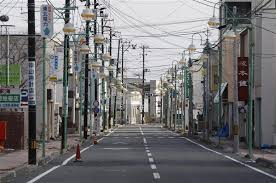strada: (35, 131, 276, 180)
